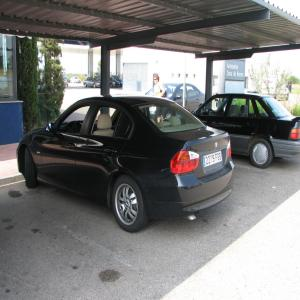Vehicle-registration-plate: (203, 153, 223, 168)
